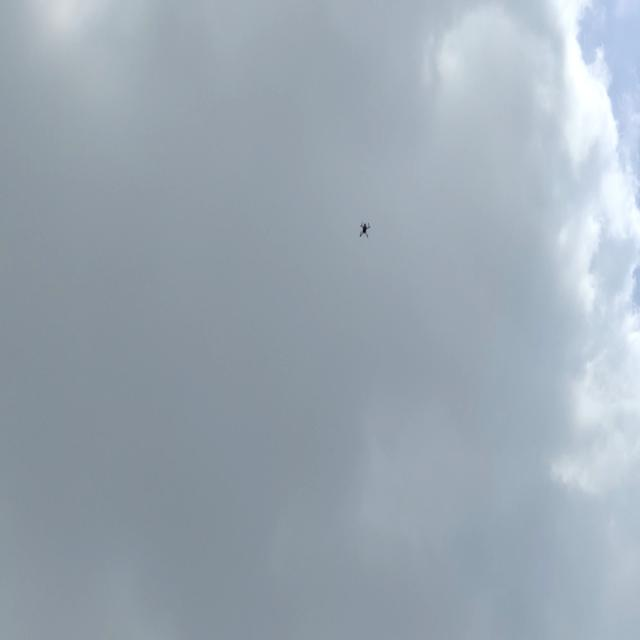drone: (353, 220, 372, 242)
